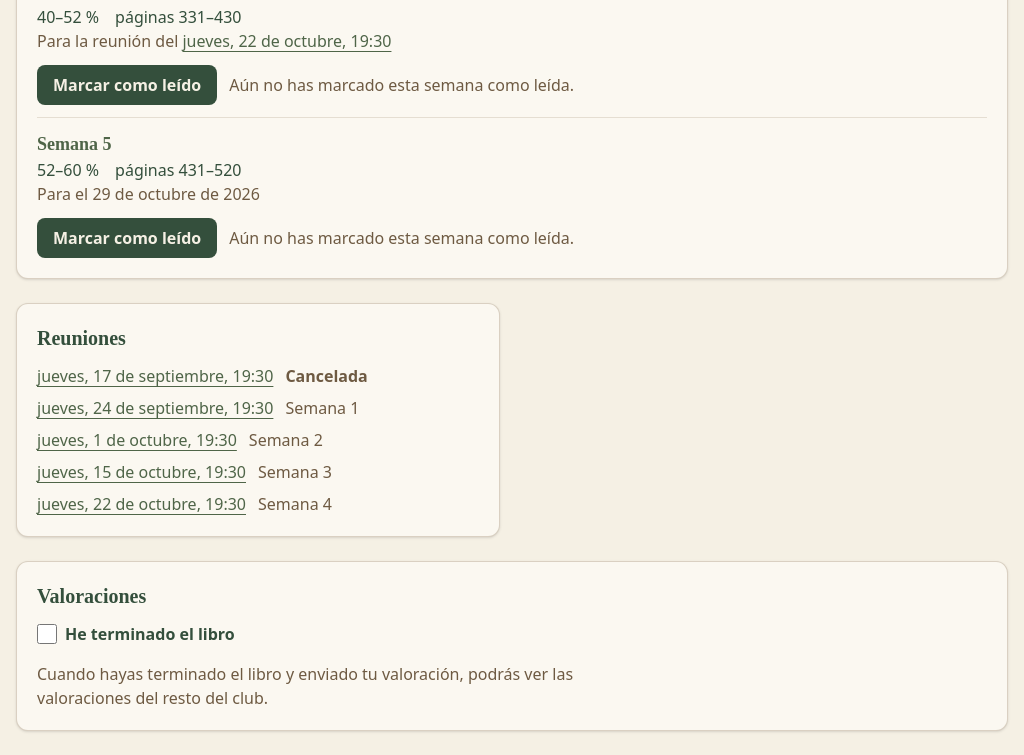
Test: «Valoraciones» on the book page › puts the control back with an alert when saving fails
The image size is (1024, 755).
(page scrolled)
Click the checkbox labelled "He terminado el libro": (47, 634) [37,624,57,644]
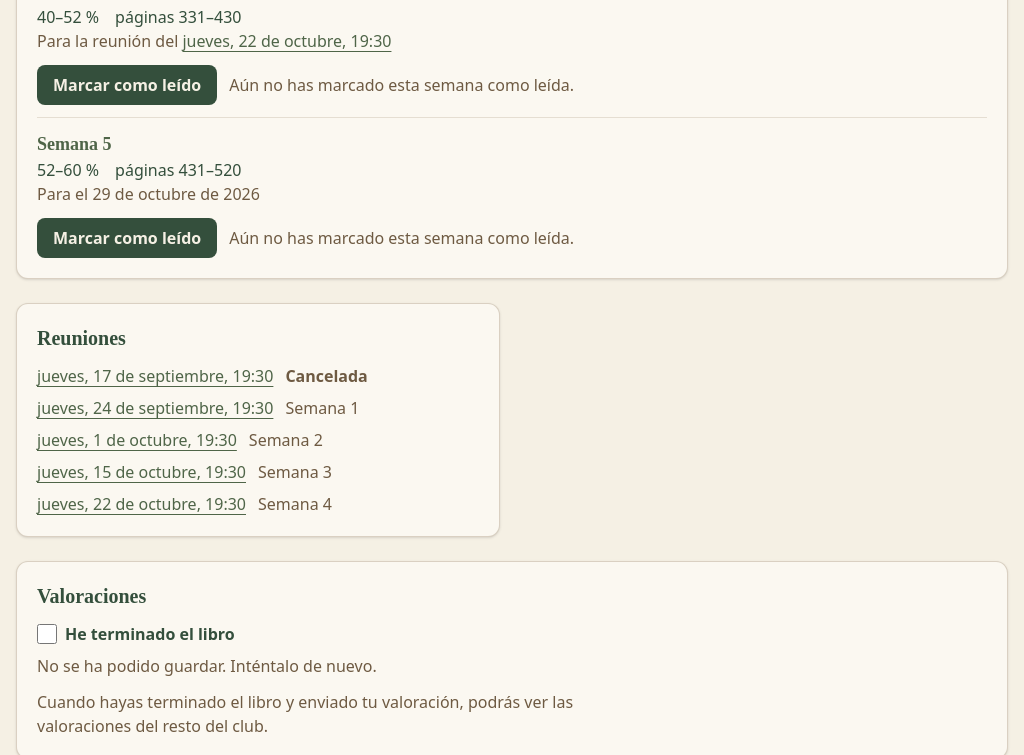
Expected: the message reads "No se ha podido guardar. Inténtalo de nuevo.", [37,655,377,677]
